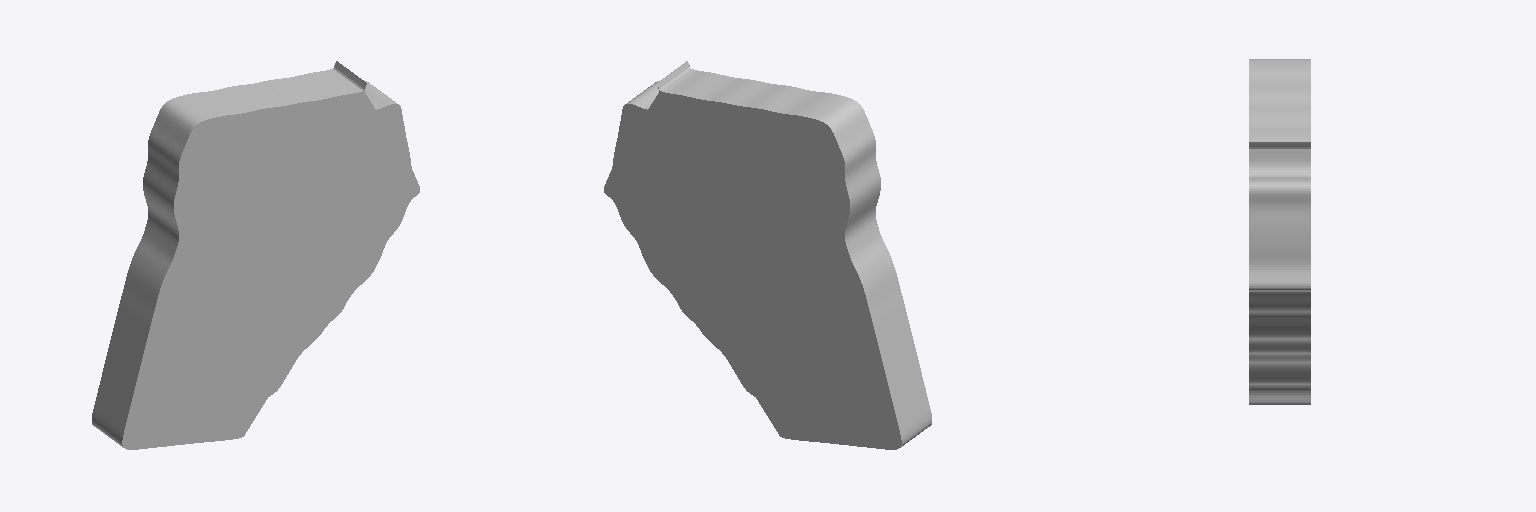
3 views of the same model, side by side, from view 1: azimuth 30°, elevation 25°; view 2: azimuth 150°, elevation 25°; view 3: azimuth 270°, elevation 25° (orthographic).
Parts seen in each view (by area): view 1: 平面; view 2: 平面; view 3: 平面.
Part boxes in pixels (left/top/right/bottom): 平面: left=92, top=61, right=419, bottom=449; 平面: left=604, top=61, right=931, bottom=449; 平面: left=1249, top=59, right=1310, bottom=404.
Size of the model in its own units: 1.12 by 1.17 by 0.2.